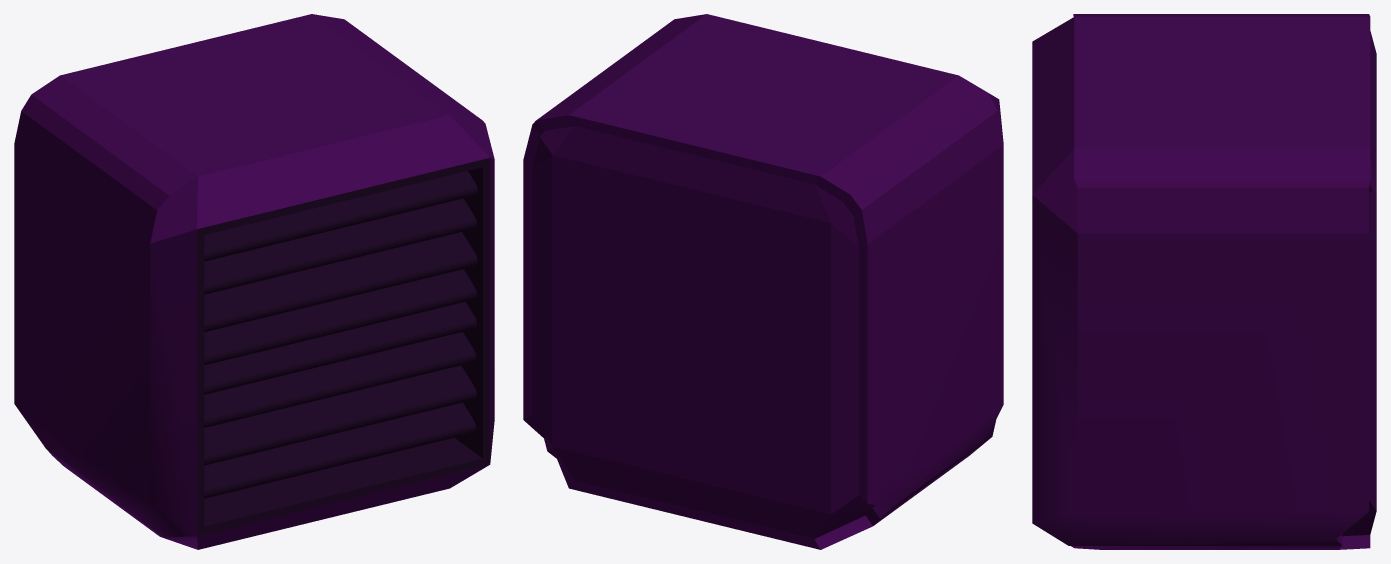
The model's file is vent.fbx.
3 views of the same model, side by side, from view 1: azimuth 30°, elevation 25°; view 2: azimuth 150°, elevation 25°; view 3: azimuth 270°, elevation 25° (orthographic). The views are drawn at different scales.
Visible parts, largest first — view 1: pCube10; view 2: pCube10; view 3: pCube10.
Boxes of the visible parts, bbox=[...] form: pCube10: bbox=[14, 14, 494, 549]; pCube10: bbox=[523, 14, 1003, 549]; pCube10: bbox=[1032, 14, 1376, 549].
Bounding box in the file's own units: 1.24 × 1.28 × 1.
